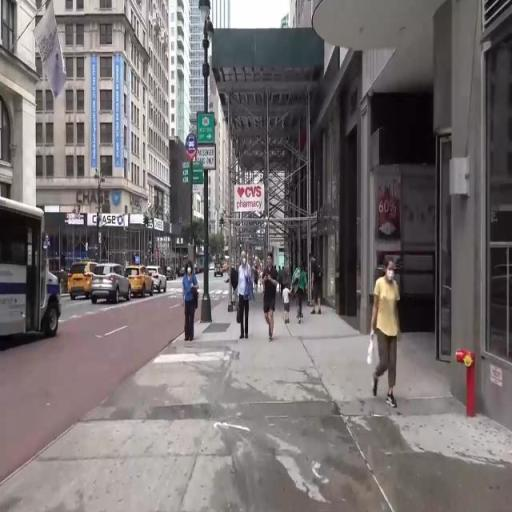person: (367, 254, 408, 427), (239, 252, 255, 345), (183, 260, 201, 339), (264, 254, 276, 343), (309, 252, 324, 322), (293, 260, 307, 326), (226, 264, 238, 305), (283, 284, 292, 327), (256, 266, 261, 294)
